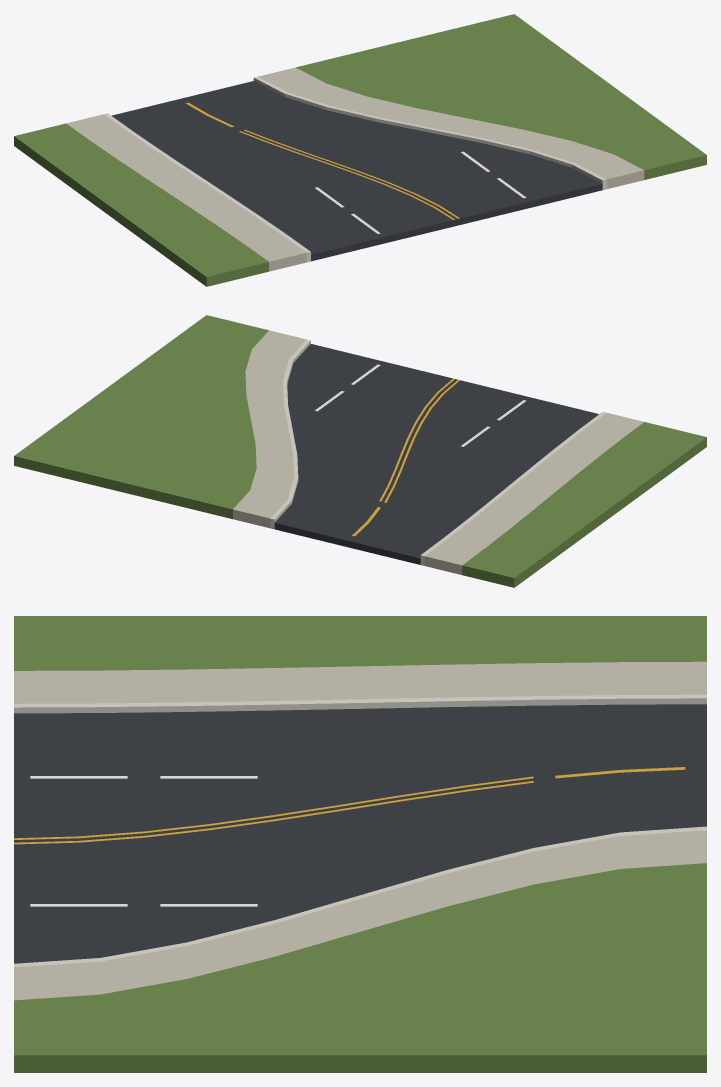
File: Transition_2Lane_To_4Lane_Sidewalk_16m.glb
3 views of the same model, one above another, from view 1: azimuth 30°, elevation 25°; view 2: azimuth 150°, elevation 25°; view 3: azimuth 270°, elevation 25° (orthographic). The views are drawn at different scales.
Visible parts, largest first — view 1: Transition_2Lane_To_4Lane_Sidewalk_16m_Asphalt, Transition_2Lane_To_4Lane_Sidewalk_16m_Grass-edge, Transition_2Lane_To_4Lane_Sidewalk_16m_Sidewalk, Transition_2Lane_To_4Lane_Sidewalk_16m_Curb, Transition_2Lane_To_4Lane_Sidewalk_16m_PaintYellow; view 2: Transition_2Lane_To_4Lane_Sidewalk_16m_Grass-edge, Transition_2Lane_To_4Lane_Sidewalk_16m_Asphalt, Transition_2Lane_To_4Lane_Sidewalk_16m_Sidewalk, Transition_2Lane_To_4Lane_Sidewalk_16m_Curb, Transition_2Lane_To_4Lane_Sidewalk_16m_PaintYellow; view 3: Transition_2Lane_To_4Lane_Sidewalk_16m_Grass-edge, Transition_2Lane_To_4Lane_Sidewalk_16m_Asphalt, Transition_2Lane_To_4Lane_Sidewalk_16m_Sidewalk, Transition_2Lane_To_4Lane_Sidewalk_16m_Curb, Transition_2Lane_To_4Lane_Sidewalk_16m_PaintYellow, Transition_2Lane_To_4Lane_Sidewalk_16m_PaintWhite.
Boxes of the visible parts, x1,y1,x2,y2 form: Transition_2Lane_To_4Lane_Sidewalk_16m_Asphalt: [111, 81, 602, 261]; Transition_2Lane_To_4Lane_Sidewalk_16m_Grass-edge: [14, 14, 706, 286]; Transition_2Lane_To_4Lane_Sidewalk_16m_Sidewalk: [66, 67, 644, 271]; Transition_2Lane_To_4Lane_Sidewalk_16m_Curb: [104, 76, 606, 262]; Transition_2Lane_To_4Lane_Sidewalk_16m_PaintYellow: [186, 102, 459, 219]; Transition_2Lane_To_4Lane_Sidewalk_16m_Grass-edge: [14, 315, 706, 587]; Transition_2Lane_To_4Lane_Sidewalk_16m_Asphalt: [274, 344, 598, 564]; Transition_2Lane_To_4Lane_Sidewalk_16m_Sidewalk: [233, 330, 643, 574]; Transition_2Lane_To_4Lane_Sidewalk_16m_Curb: [270, 339, 606, 565]; Transition_2Lane_To_4Lane_Sidewalk_16m_PaintYellow: [352, 378, 459, 536]; Transition_2Lane_To_4Lane_Sidewalk_16m_Grass-edge: [14, 616, 706, 1072]; Transition_2Lane_To_4Lane_Sidewalk_16m_Asphalt: [14, 704, 706, 963]; Transition_2Lane_To_4Lane_Sidewalk_16m_Sidewalk: [14, 661, 706, 1000]; Transition_2Lane_To_4Lane_Sidewalk_16m_Curb: [14, 694, 706, 967]; Transition_2Lane_To_4Lane_Sidewalk_16m_PaintYellow: [14, 767, 685, 844]; Transition_2Lane_To_4Lane_Sidewalk_16m_PaintWhite: [30, 776, 257, 906].
Size of the model in its own units: 24 by 0.45 by 16.
